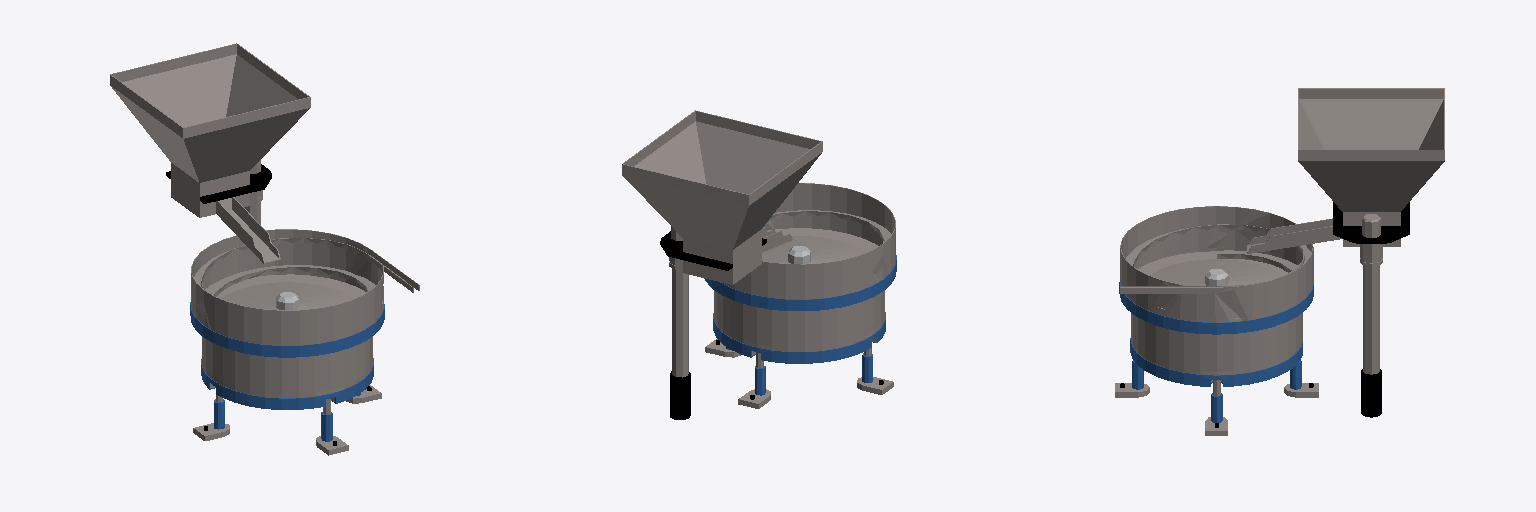
Rendered from Vibrating_Bowl_Clip.obj.
3 views of the same model, side by side, from view 1: azimuth 30°, elevation 25°; view 2: azimuth 150°, elevation 25°; view 3: azimuth 270°, elevation 25° (orthographic).
Visible parts, largest first — view 1: _476894_[number redacted]_[number redacted]_[number redacted]_[number redacted]_[number redacted], _476895, _476895_[number redacted]_[number redacted]_[number redacted]_[number redacted]_[number redacted]_[number redacted]_[number redacted], _476895_[number redacted]_[number redacted]_[number redacted]_[number redacted]_[number redacted]; view 2: _476894_[number redacted]_[number redacted]_[number redacted]_[number redacted]_[number redacted], _476895, _476895_[number redacted]_[number redacted]_[number redacted]_[number redacted]_[number redacted], _476895_[number redacted]_[number redacted]_[number redacted]_[number redacted]_[number redacted]_[number redacted]_[number redacted]; view 3: _476894_[number redacted]_[number redacted]_[number redacted]_[number redacted]_[number redacted], _476895, _476895_[number redacted]_[number redacted]_[number redacted]_[number redacted]_[number redacted], _476895_[number redacted]_[number redacted]_[number redacted]_[number redacted]_[number redacted]_[number redacted]_[number redacted].
Boxes of the visible parts, <box> form: _476894_[number redacted]_[number redacted]_[number redacted]_[number redacted]_[number redacted]: <box>110,43,419,401</box>; _476895: <box>190,229,384,441</box>; _476895_[number redacted]_[number redacted]_[number redacted]_[number redacted]_[number redacted]_[number redacted]_[number redacted]: <box>193,385,381,455</box>; _476895_[number redacted]_[number redacted]_[number redacted]_[number redacted]_[number redacted]: <box>166,164,371,445</box>; _476894_[number redacted]_[number redacted]_[number redacted]_[number redacted]_[number redacted]: <box>622,110,891,377</box>; _476895: <box>704,183,896,395</box>; _476895_[number redacted]_[number redacted]_[number redacted]_[number redacted]_[number redacted]: <box>660,231,883,419</box>; _476895_[number redacted]_[number redacted]_[number redacted]_[number redacted]_[number redacted]_[number redacted]_[number redacted]: <box>705,339,893,408</box>; _476894_[number redacted]_[number redacted]_[number redacted]_[number redacted]_[number redacted]: <box>1120,88,1444,382</box>; _476895: <box>1119,206,1313,422</box>; _476895_[number redacted]_[number redacted]_[number redacted]_[number redacted]_[number redacted]: <box>1120,202,1409,427</box>; _476895_[number redacted]_[number redacted]_[number redacted]_[number redacted]_[number redacted]_[number redacted]_[number redacted]: <box>1115,361,1318,435</box>.
Size of the model in its own units: 528 by 780 by 854.